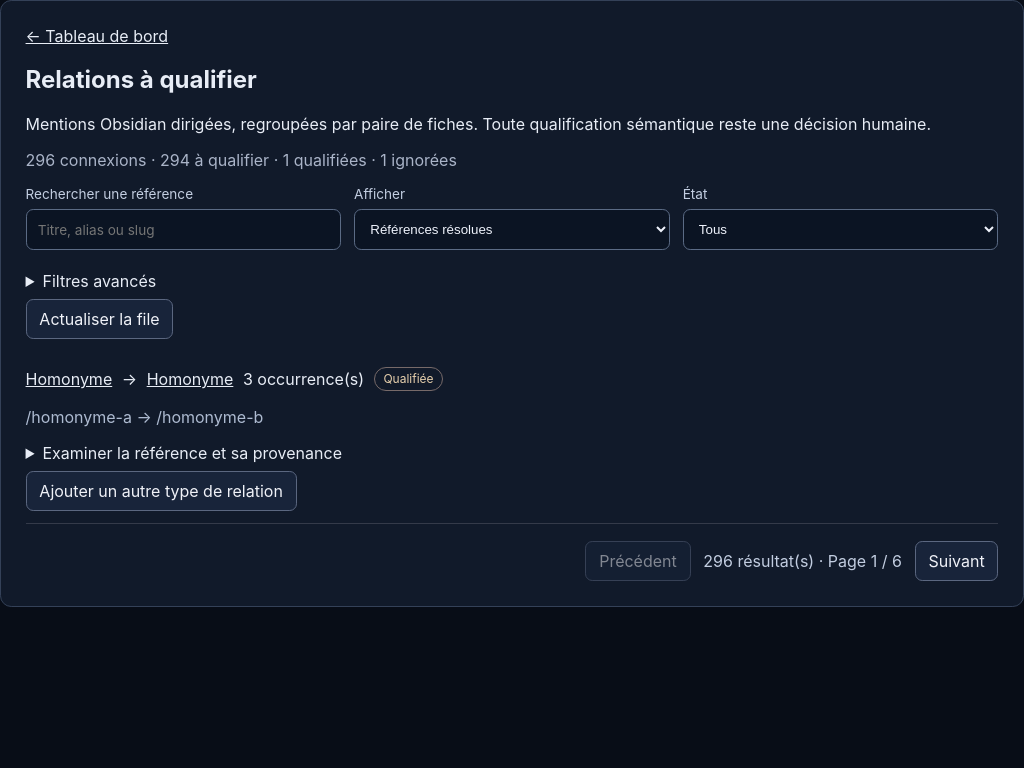
Test: file de qualification › une référence qualifiée autorise un autre type et les diagnostics ne proposent aucune création
Expected: the button "Ajouter un autre type de relation" is shown, [26, 471, 297, 511]
Select "Diagnostics techniques" in the dropdown labelled "Afficher". click: x=512, y=230
box: [354, 209, 670, 250]
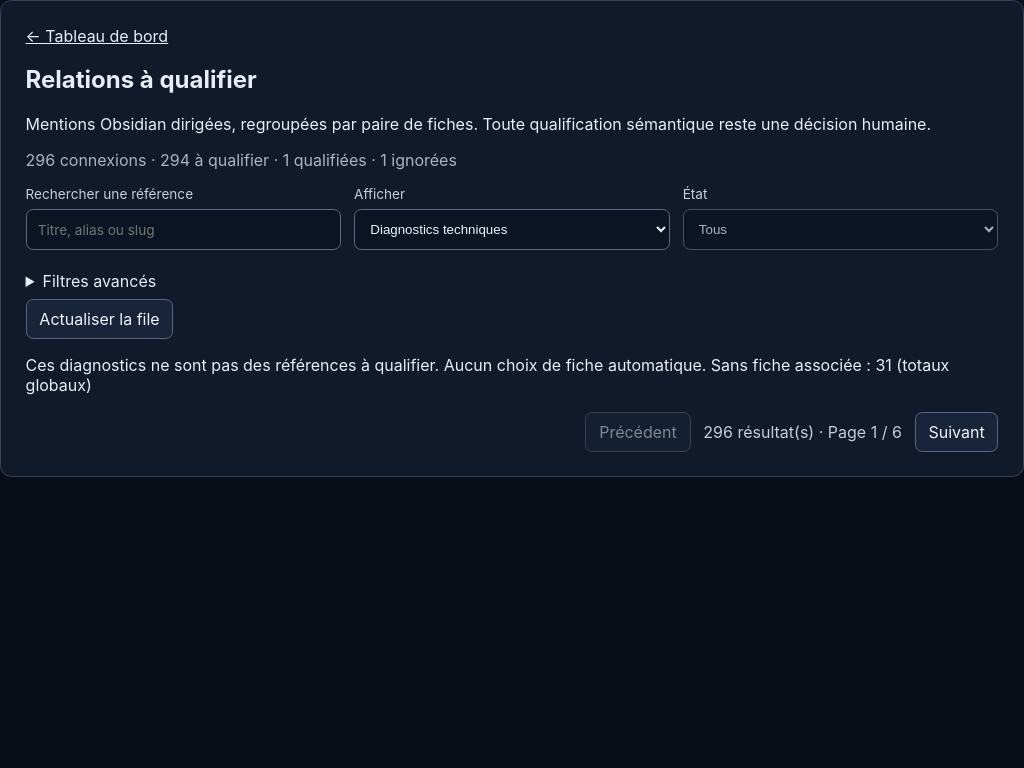
Now the text "Ces diagnostics ne sont pas des références à qualifier" is shown, box [26, 354, 706, 374]
Now the button "Ajouter un autre type de relation" is gone
